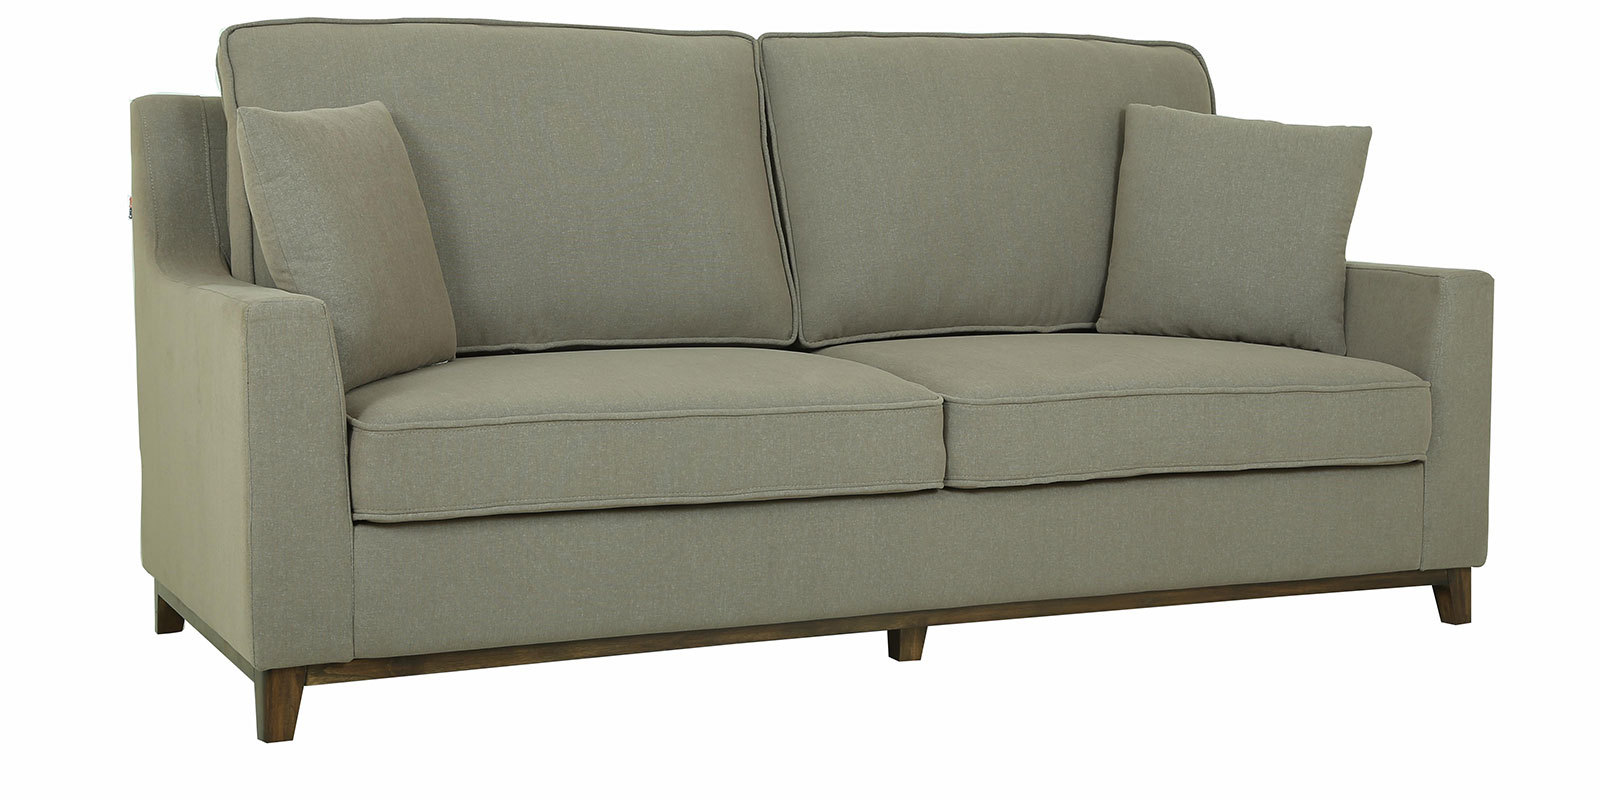Diego Three Seater Sofa in Sandy Colour by CasaCraft: (120, 8, 1520, 776)
